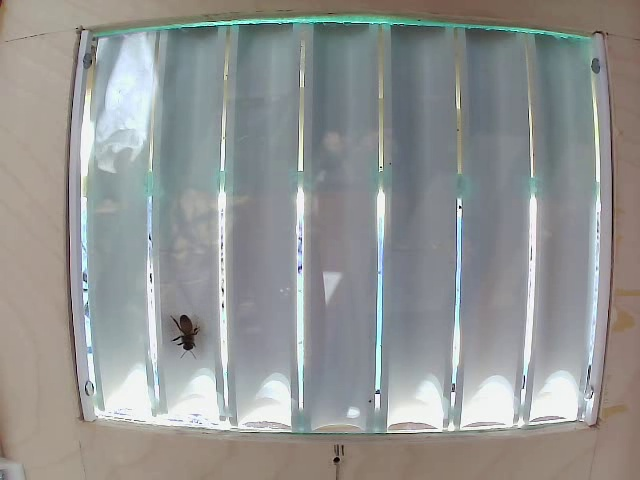bee: (170, 306, 211, 365)
